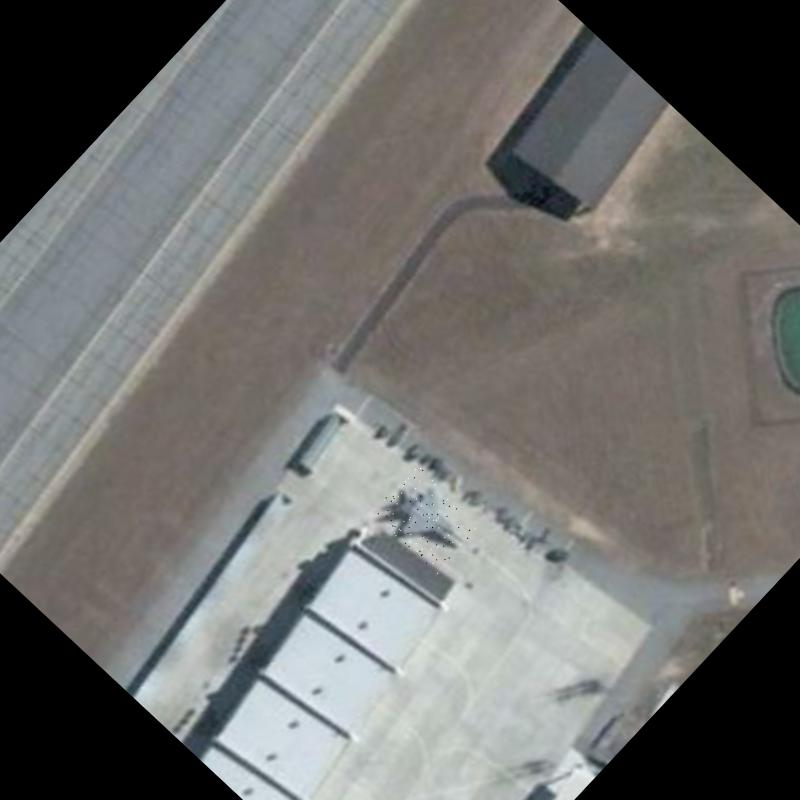A13: (370, 464, 483, 576)
